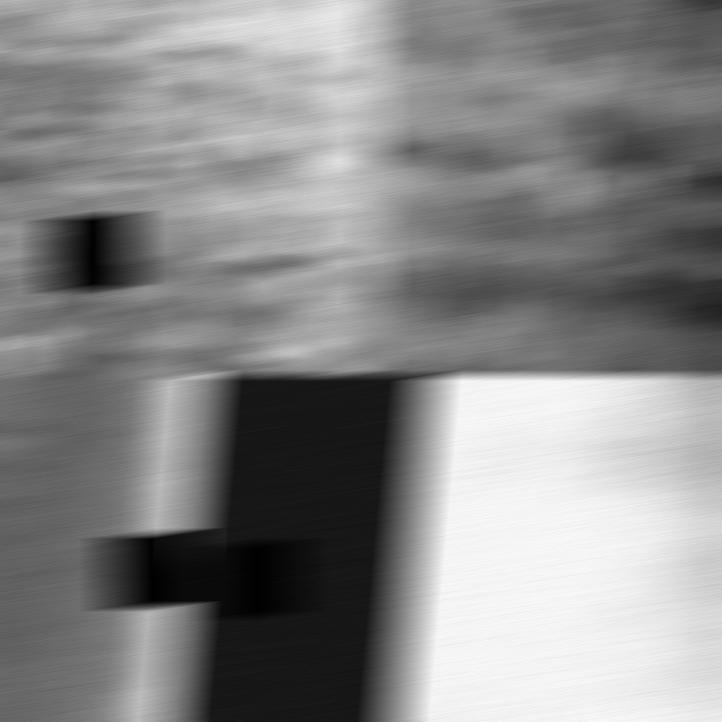Airbag: (0, 1, 384, 374), (0, 376, 266, 721)
